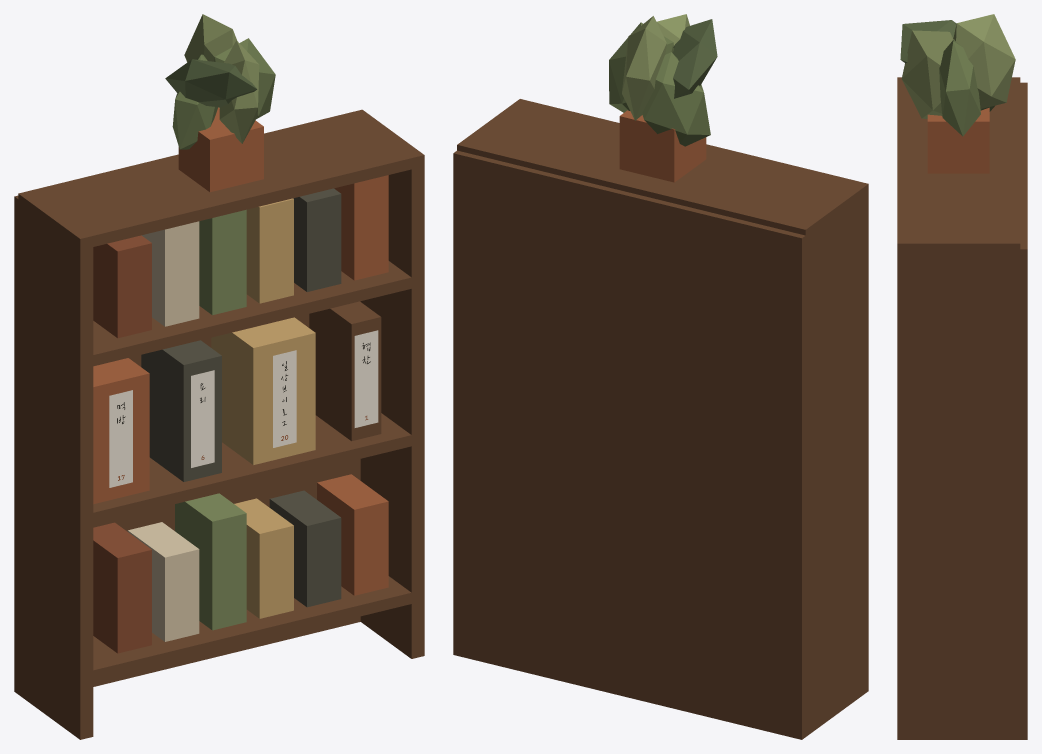
File: shelf.glb
3 renders of one model, left to right at view 1: azimuth 30°, elevation 25°; view 2: azimuth 150°, elevation 25°; view 3: azimuth 270°, elevation 25°, orthographic. The views are drawn at different scales.
Parts seen in each view (by area): view 1: shelf; view 2: shelf; view 3: shelf.
Boxes of the visible parts, bbox=[...] form: shelf: bbox=[14, 14, 424, 739]; shelf: bbox=[453, 14, 868, 739]; shelf: bbox=[897, 14, 1027, 739].
Size of the model in its own units: 1.6 by 2.88 by 0.53.
27 materials, 4 textured.
